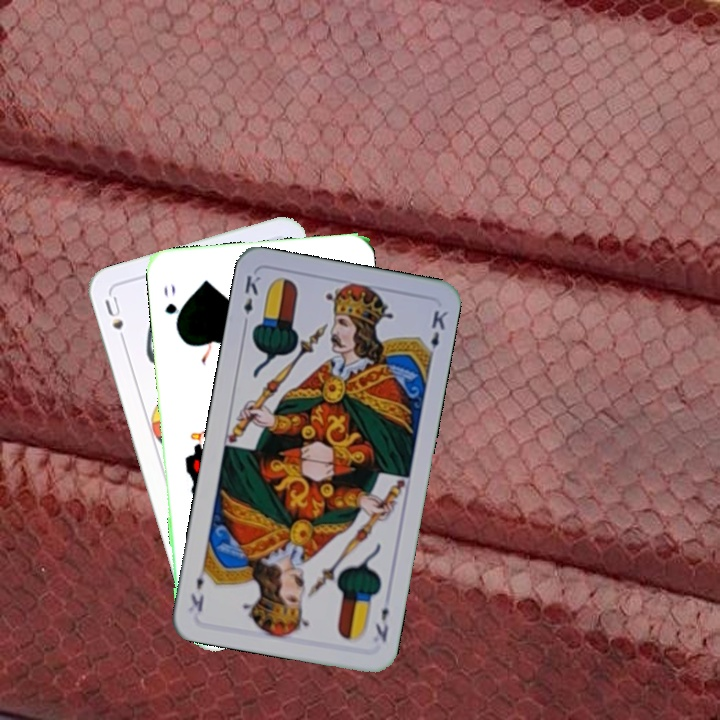EK: (239, 271, 263, 330), (371, 603, 392, 645)
GO: (160, 280, 184, 332)
SU: (100, 292, 130, 349)
